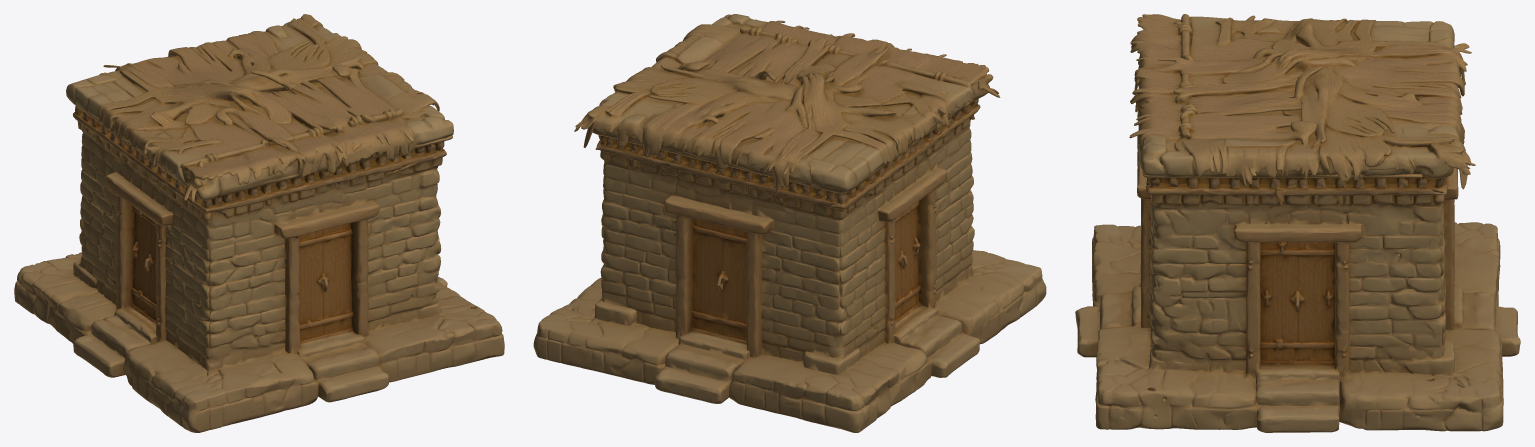
The model's file is مركز_الحضارة_السومرية.glb.
3 views of the same model, side by side, from view 1: azimuth 30°, elevation 25°; view 2: azimuth 150°, elevation 25°; view 3: azimuth 270°, elevation 25° (orthographic). The views are drawn at different scales.
Visible parts, largest first — view 1: tripo_node_4fedf41a-2b1c-44b2-b55b-64b23bf28cf6; view 2: tripo_node_4fedf41a-2b1c-44b2-b55b-64b23bf28cf6; view 3: tripo_node_4fedf41a-2b1c-44b2-b55b-64b23bf28cf6.
Part boxes in pixels (x1=…): tripo_node_4fedf41a-2b1c-44b2-b55b-64b23bf28cf6: x1=14, y1=14, x2=504, y2=432; tripo_node_4fedf41a-2b1c-44b2-b55b-64b23bf28cf6: x1=533, y1=14, x2=1046, y2=432; tripo_node_4fedf41a-2b1c-44b2-b55b-64b23bf28cf6: x1=1075, y1=14, x2=1520, y2=432.
Bounding box in the file's own units: 0.4269 × 0.3 × 0.4285.
1 material, 1 textured.
